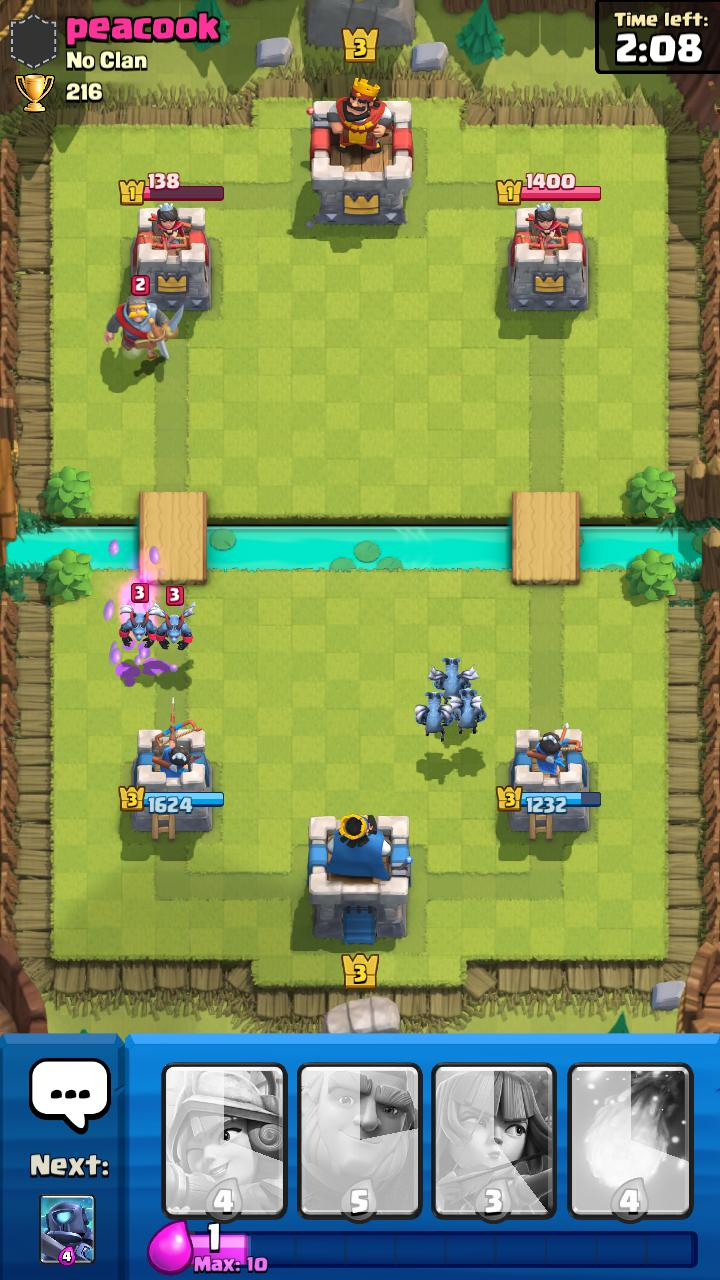ally: (427, 658, 480, 704), (415, 692, 454, 742), (448, 688, 487, 734)
enemy: (104, 275, 184, 359), (152, 586, 197, 650), (119, 583, 161, 648)
